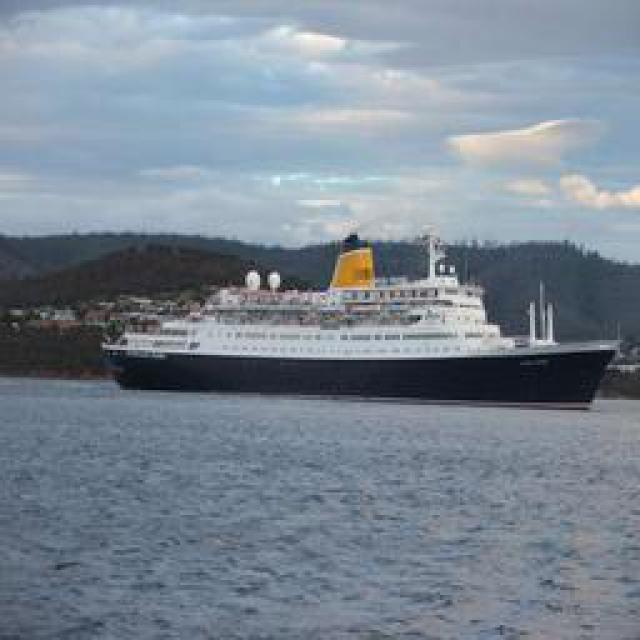Ship: (95, 232, 635, 402)
